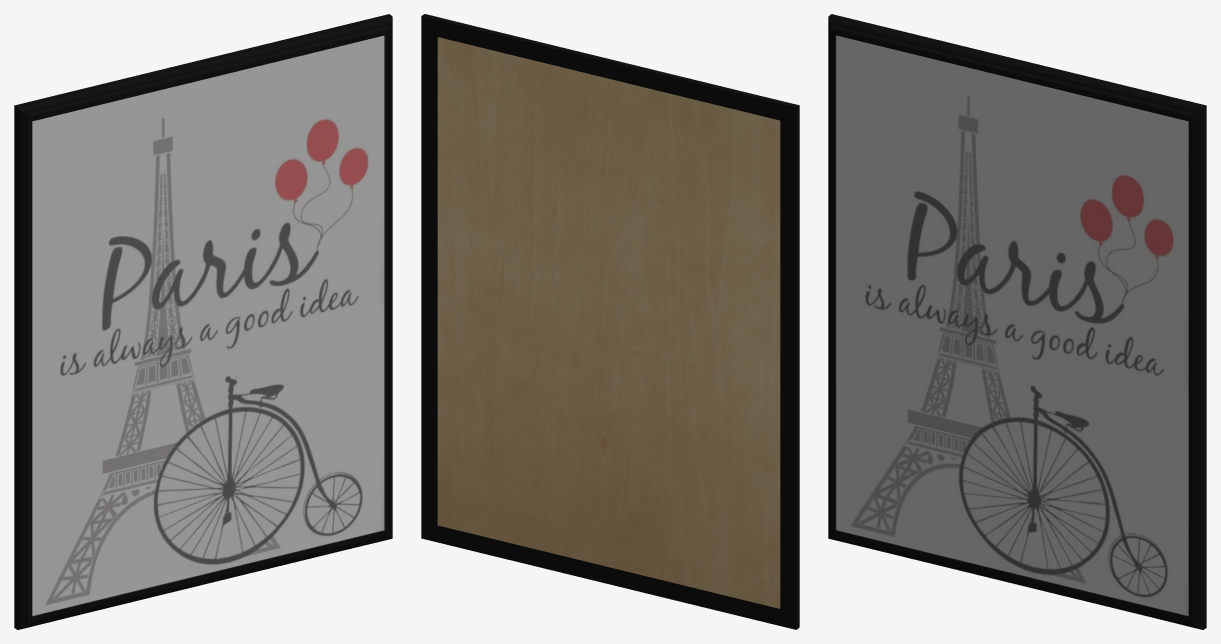
Rendered from PosterFrame.fbx.
3 views of the same model, side by side, from view 1: azimuth 30°, elevation 25°; view 2: azimuth 150°, elevation 25°; view 3: azimuth 330°, elevation 25° (orthographic).
Visible parts, largest first — view 1: Plexiglass, Paper, Frame; view 2: Wood, Frame; view 3: Plexiglass, Paper, Frame.
Boxes of the visible parts, x1,y1,x2,y2 form: Plexiglass: [32, 35, 384, 616]; Paper: [32, 35, 383, 615]; Frame: [14, 14, 392, 629]; Wood: [437, 37, 780, 608]; Frame: [421, 14, 799, 629]; Plexiglass: [836, 35, 1188, 616]; Paper: [836, 35, 1188, 615]; Frame: [828, 14, 1206, 629].
Size of the model in its own units: 21.18 by 28.18 by 0.7.
Materials: 4 (3 with a texture image).
